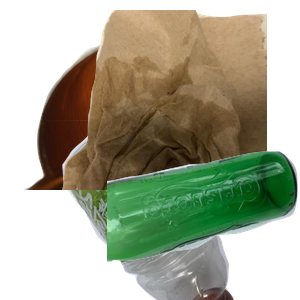glass: (107, 149, 300, 300)
metal: (21, 29, 261, 209)
plastic: (25, 120, 252, 300)
trash: (60, 10, 300, 190)
